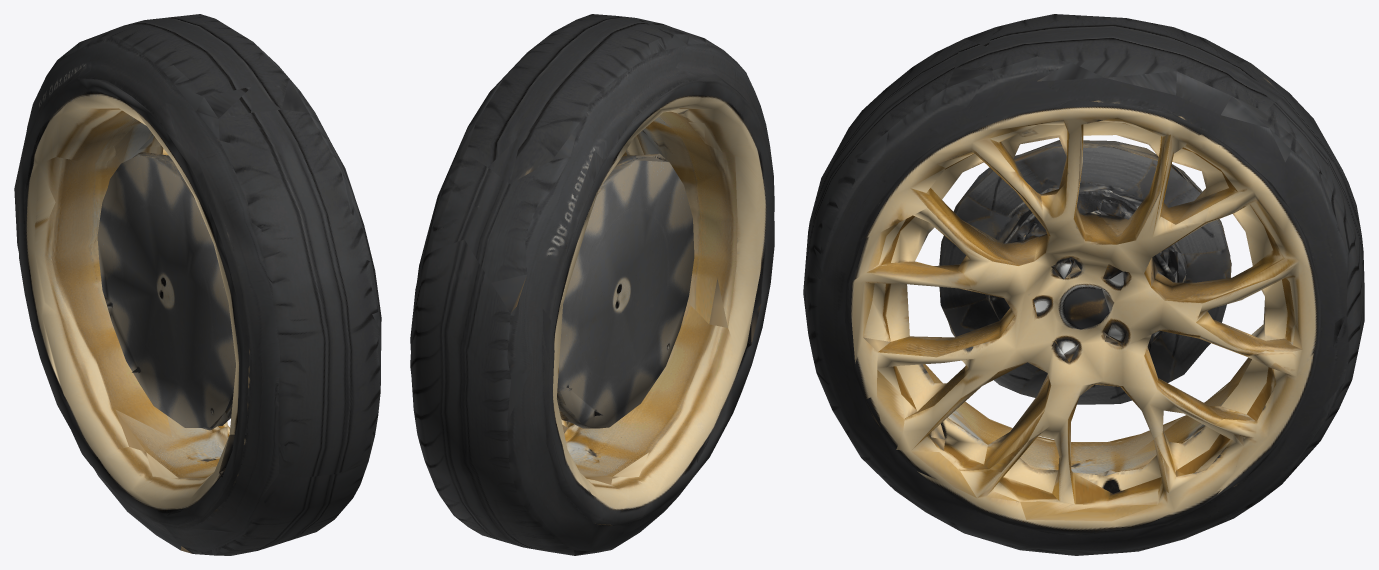
File: mti_wheel.obj
The picture shows the model from 3 angles, left to right: view 1: azimuth 30°, elevation 25°; view 2: azimuth 150°, elevation 25°; view 3: azimuth 270°, elevation 25°; orthographic projection. The views are drawn at different scales.
Parts seen in each view (by area): view 1: wheel; view 2: wheel; view 3: wheel.
Part boxes in pixels (x1=…): wheel: x1=14, y1=14, x2=381, y2=555; wheel: x1=410, y1=14, x2=774, y2=555; wheel: x1=803, y1=14, x2=1364, y2=555.
Bounding box in the file's own units: 0.221 × 0.6979 × 0.6985.
